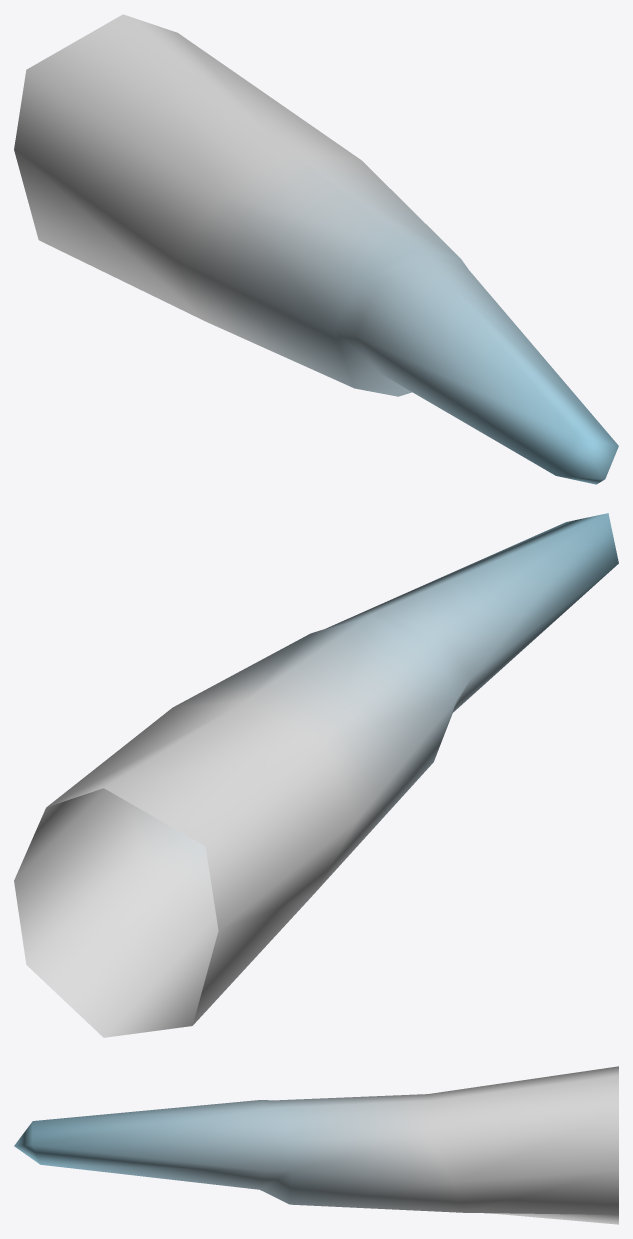
The model's file is Stalactites_IceC.glb.
The picture shows the model from 3 angles, top to bottom: view 1: azimuth 30°, elevation 25°; view 2: azimuth 150°, elevation 25°; view 3: azimuth 270°, elevation 25°; orthographic projection. The views are drawn at different scales.
Visible parts, largest first — view 1: MeshNode_0; view 2: MeshNode_0; view 3: MeshNode_0.
Part boxes in pixels (bbox=[...]): MeshNode_0: bbox=[14, 14, 618, 484]; MeshNode_0: bbox=[14, 513, 618, 1037]; MeshNode_0: bbox=[14, 1066, 618, 1224].
Size of the model in its own units: 1.42 by 1.43 by 5.27.
